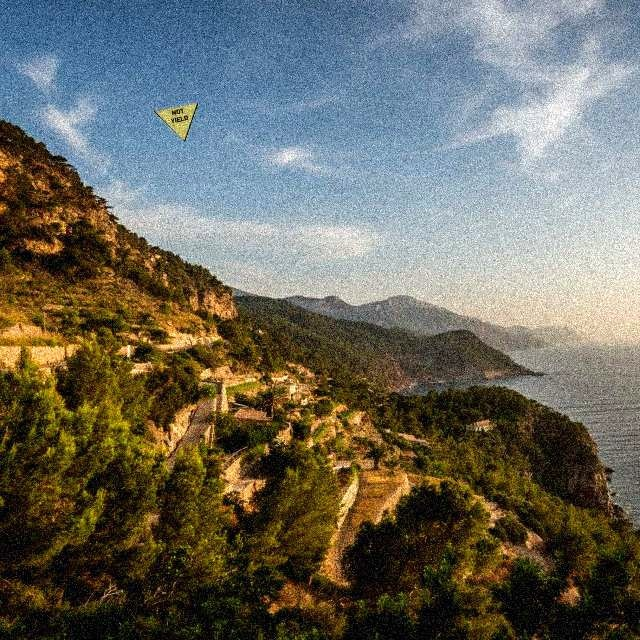NOT_YIELD: (154, 102, 198, 142)
